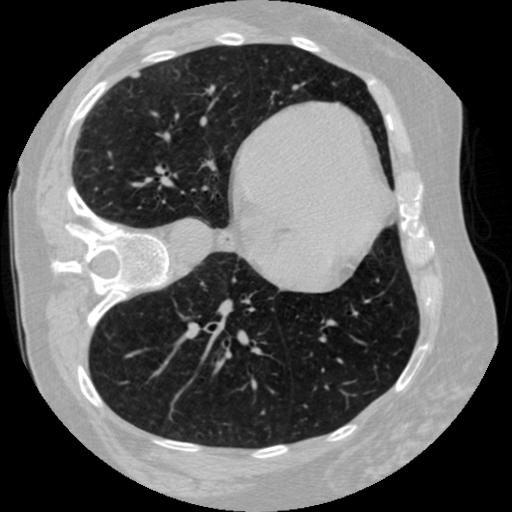nodule: (131, 72, 143, 84)
